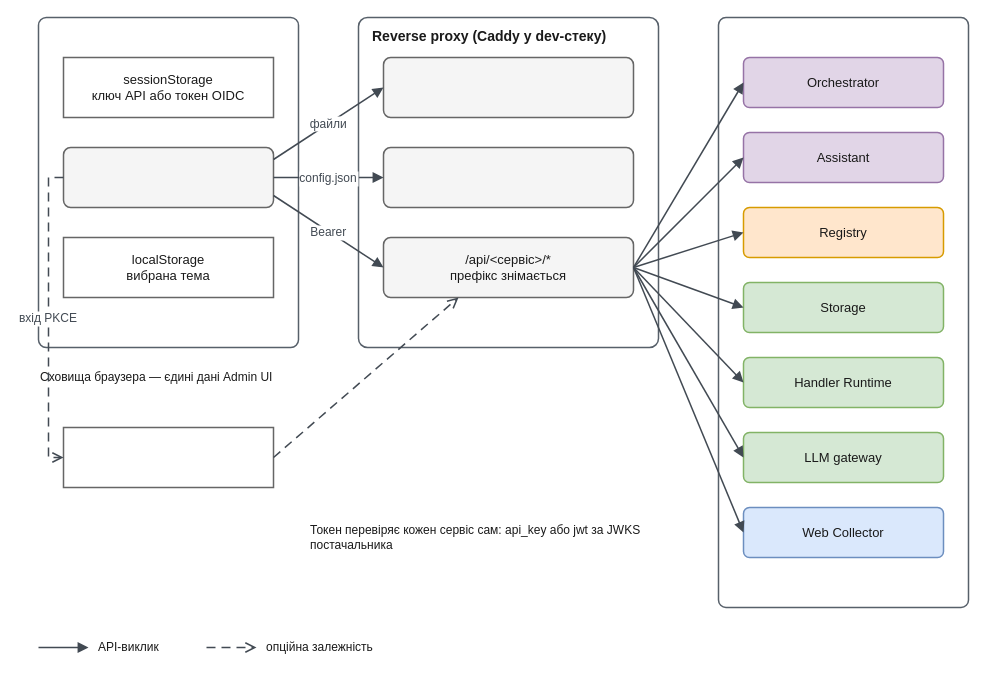
The diagram is 986 pixels wide and 676 high, and some of its shapes have lost their labels. The box of each missing label's shape, as (x1, y1, x2, y2) in pixels:
/ та /assets/* web/admin/dist: (382, 56, 634, 118)
/config.json конфігурація розгортання: (382, 146, 634, 208)
Admin UI (SPA) React, статичні файли: (62, 146, 274, 208)
API сервісів /v1: (717, 16, 969, 608)
Браузер оператора: (37, 16, 299, 348)
Постачальник ідентичності (OIDC, опційно): (62, 426, 274, 488)
